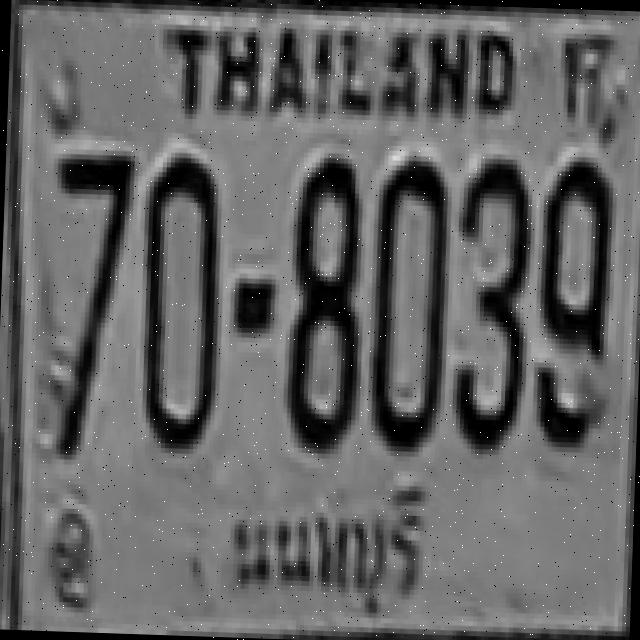0: (138, 152, 221, 444), (366, 157, 448, 450), (141, 152, 221, 366), (534, 158, 610, 342)
3: (448, 155, 532, 448)
7: (52, 148, 130, 318)
8: (281, 154, 360, 447)
Nonthaburi: (214, 466, 442, 624)
